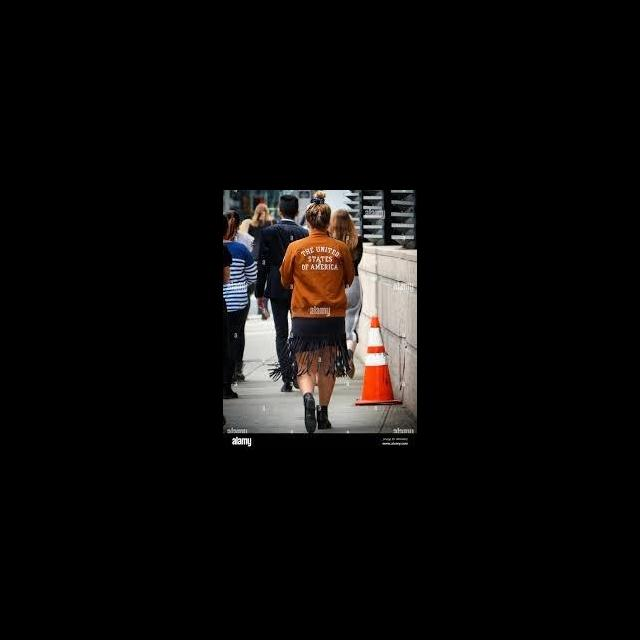NO-Hardhat: (305, 197, 328, 225), (279, 195, 301, 214), (334, 210, 352, 230), (225, 210, 241, 226), (254, 203, 269, 214), (223, 217, 228, 237)
NO-Safety Vest: (288, 236, 347, 313), (268, 222, 303, 294), (223, 242, 248, 307), (335, 235, 360, 274), (250, 220, 273, 233)
Person: (284, 195, 353, 432), (255, 196, 310, 394), (327, 210, 364, 377), (224, 213, 258, 385), (249, 202, 277, 322), (223, 218, 237, 425)
Safety Cone: (357, 315, 403, 405)
